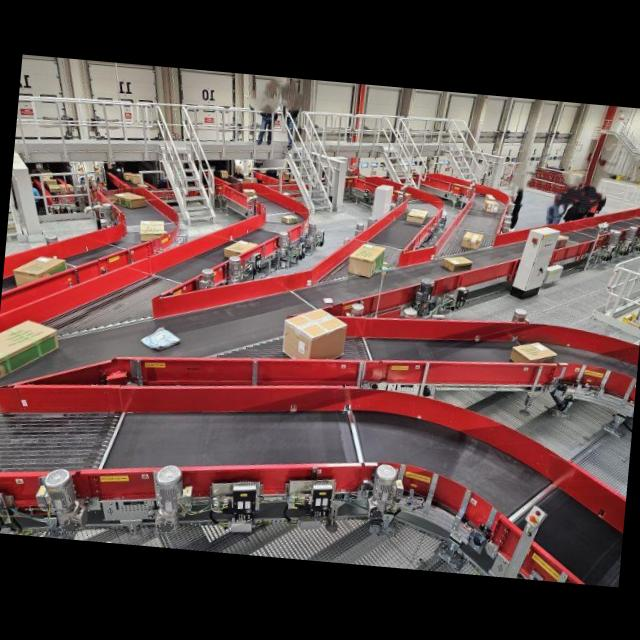box: (0, 319, 57, 376), (284, 309, 347, 358), (14, 256, 65, 284), (349, 242, 383, 276), (510, 341, 555, 361), (114, 191, 146, 207), (224, 240, 258, 255), (141, 219, 166, 239), (443, 255, 471, 270), (462, 230, 482, 247), (407, 209, 427, 222), (484, 194, 497, 211), (281, 213, 298, 223), (243, 187, 255, 194)
mailer: (141, 326, 180, 349)
